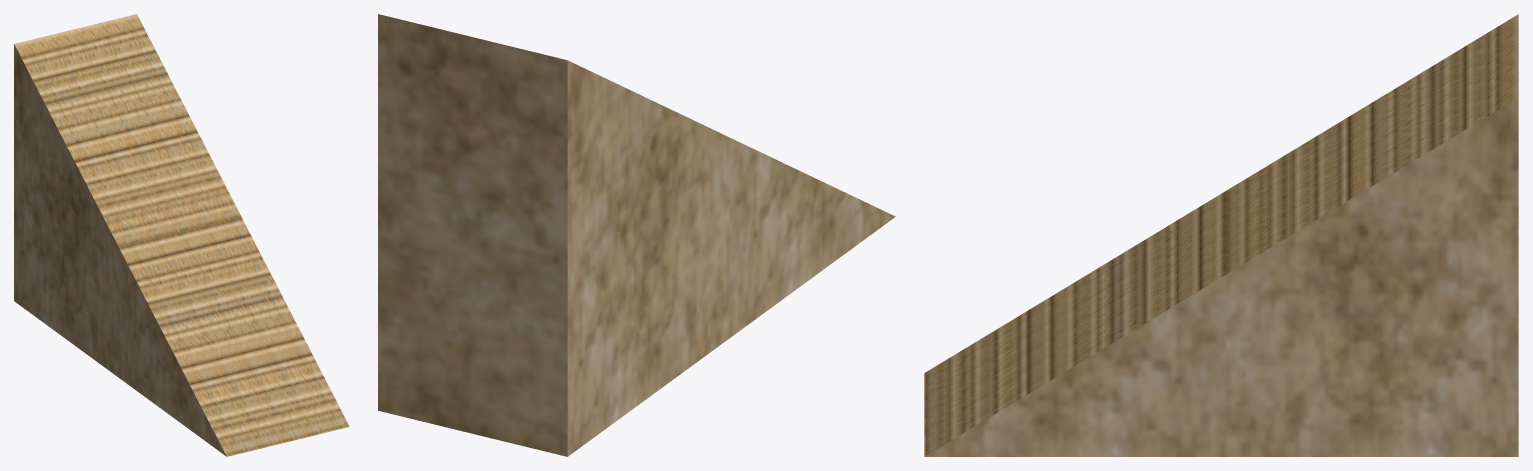
Rendered from thm_tato_imprv_stair_sml_s01_l2.fbx.
3 renders of one model, left to right at view 1: azimuth 30°, elevation 25°; view 2: azimuth 150°, elevation 25°; view 3: azimuth 270°, elevation 25°, orthographic. The views are drawn at different scales.
Visible parts, largest first — view 1: mesh_node; view 2: mesh_node; view 3: mesh_node.
Boxes of the visible parts, x1,y1,x2,y2 form: mesh_node: (14,14,349,456); mesh_node: (378,14,895,456); mesh_node: (924,14,1518,456).
Bounding box in the file's own units: 4 × 8 × 12.
